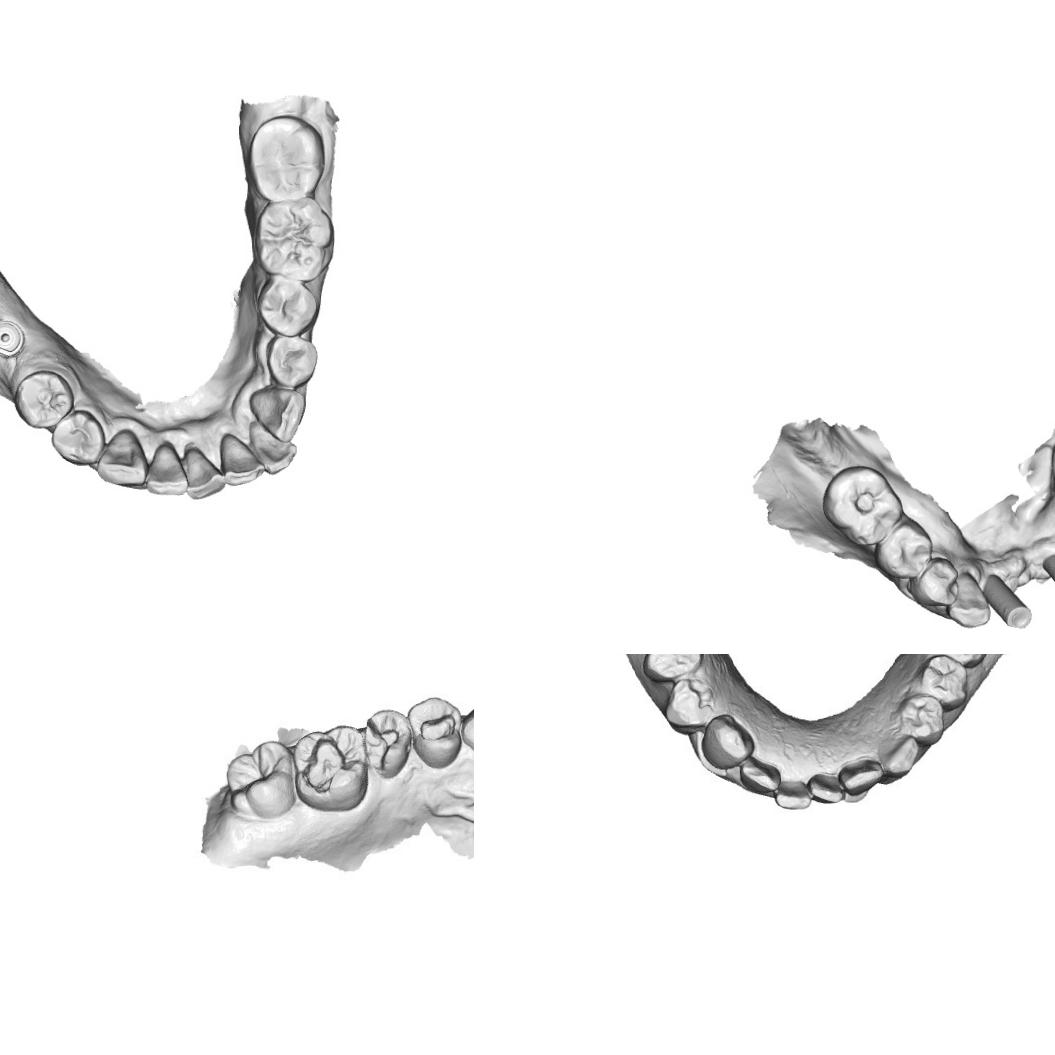canine: (246, 386, 309, 446), (92, 427, 146, 489), (698, 713, 753, 767), (945, 569, 992, 630), (878, 731, 922, 778), (462, 699, 474, 761)
implant: (984, 572, 1034, 631), (0, 318, 26, 359), (1040, 549, 1055, 600)
incisor: (179, 444, 226, 503), (218, 430, 264, 488), (248, 423, 298, 476), (144, 440, 190, 497), (738, 754, 783, 794), (844, 759, 884, 796), (774, 778, 812, 812), (812, 772, 844, 805)
inlay: (300, 730, 358, 798), (360, 708, 406, 775), (416, 704, 458, 750)
molar: (245, 112, 328, 202), (252, 197, 337, 283), (820, 462, 904, 548), (222, 740, 300, 822), (930, 654, 997, 669)
premolar: (251, 278, 320, 339), (11, 368, 74, 431), (873, 517, 934, 581), (48, 408, 106, 468), (266, 335, 322, 389), (663, 676, 716, 730), (909, 556, 961, 608), (893, 694, 948, 742), (918, 654, 966, 708), (640, 654, 704, 683)
